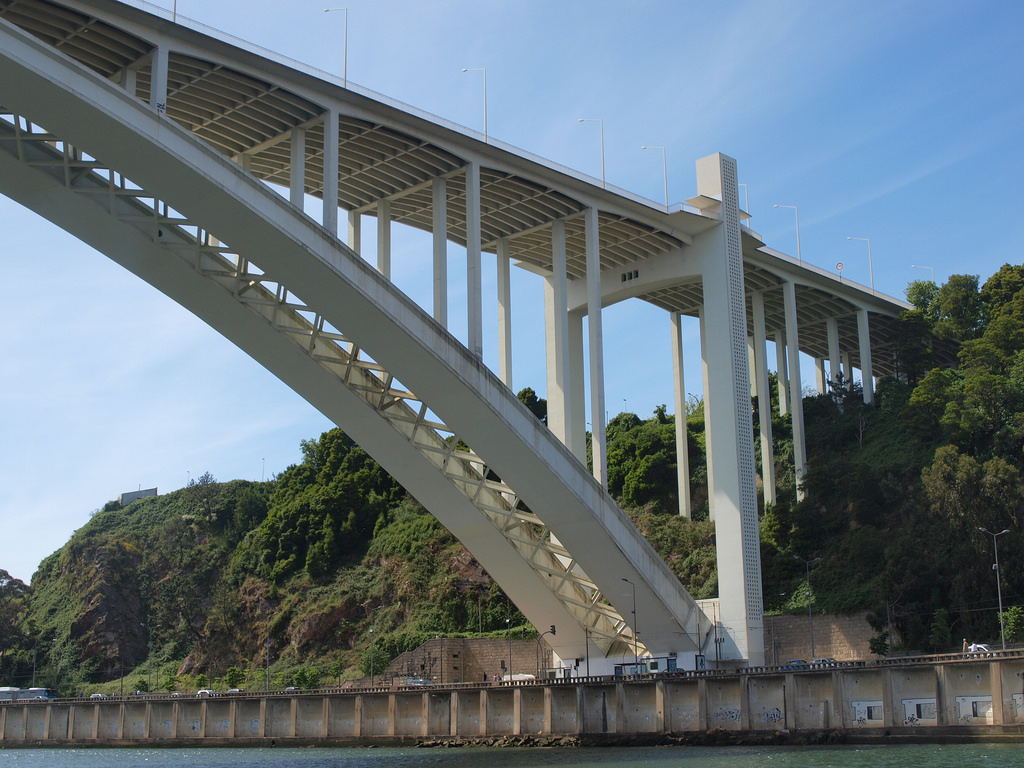arrabida: (0, 0, 934, 685)
